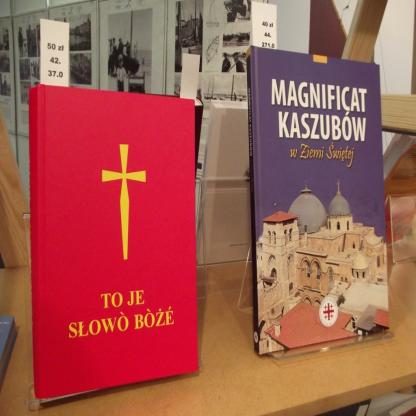book: (28, 82, 202, 406), (248, 45, 393, 355), (0, 313, 19, 385)
